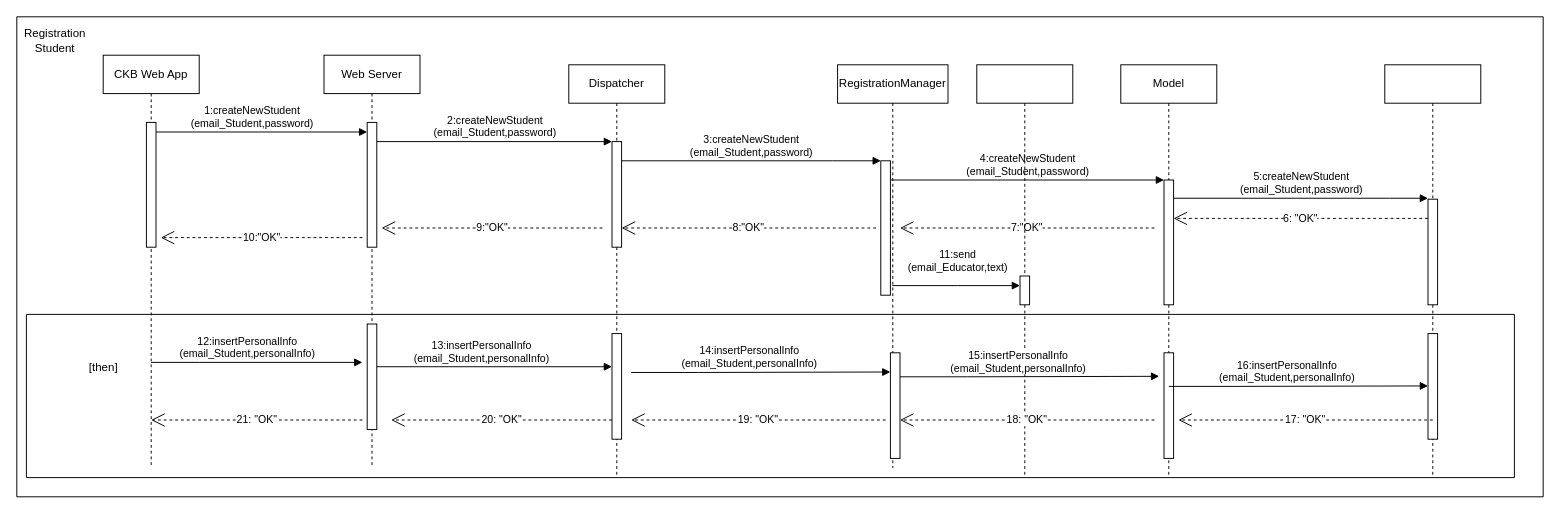
This 1560x514 diagram has some shape labels left out. The centre of each missing label's shape, as x and y in pixels:
"alt confirmation Student_email == true" goes at point (769, 395).
"Email Provider" goes at point (1024, 271).
"Private DBMS" goes at point (1432, 271).
